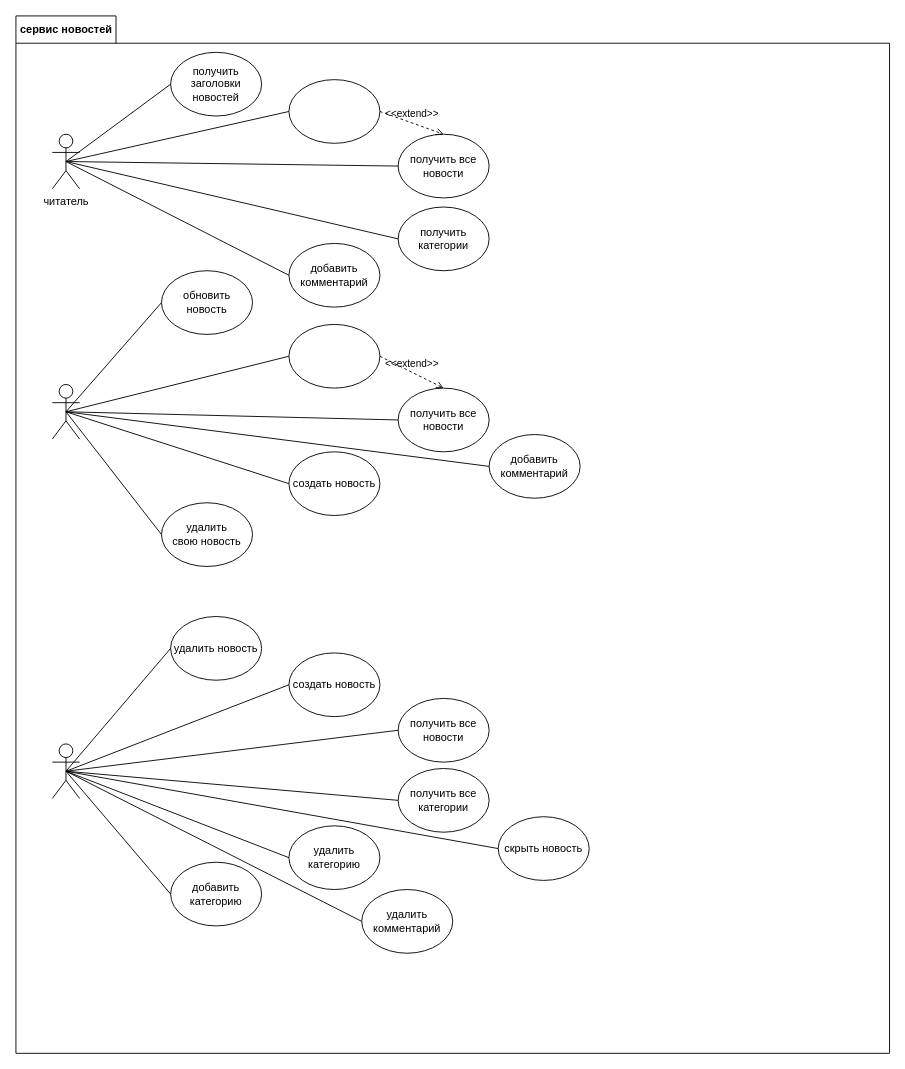
Image size: 905x1069. Some labels were removed from this diagram. The shapes that lost their labels are listed below. From the top down, each one's centre as x and y in pixels, then its label:
(334,111): получить положительные новости
(334,356): получить свои новости
(65,411): автор
(65,771): администратор
